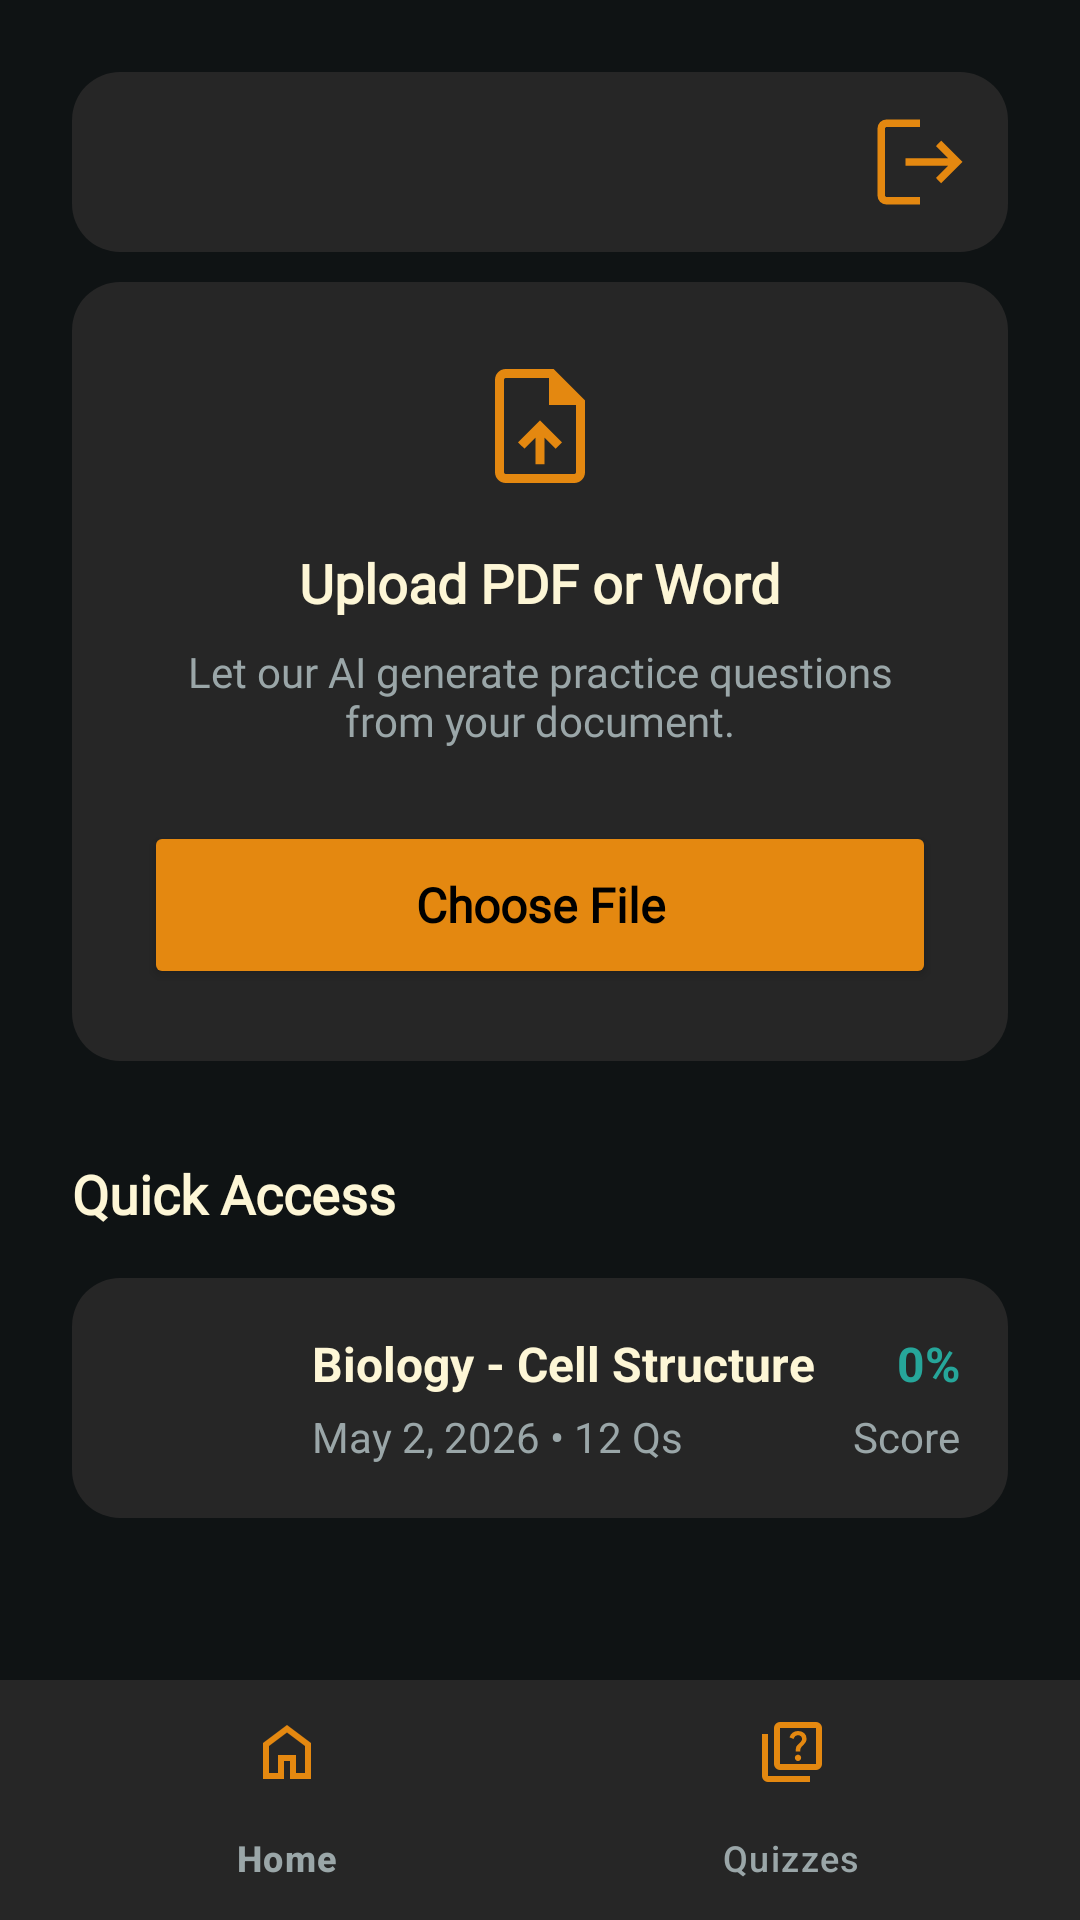

Named icons in this screenshot (1080 x 1920) and their centers, [x,y]:
upload file: [540,426]
